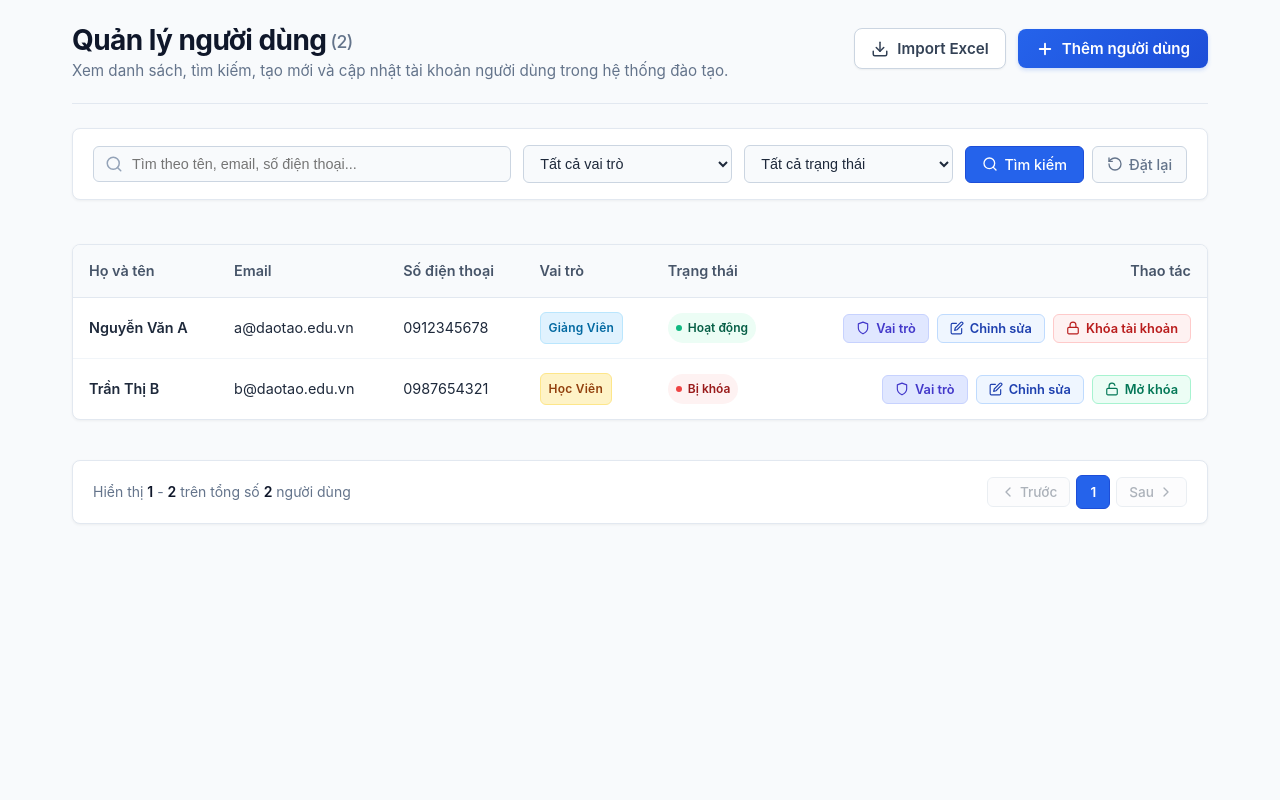
Test: SCRUM-89: User Management Page › 7. bấm nút Vai trò trên dòng người dùng mở modal quản lý vai trò
Step 1. Click the button with test id "btn-manage-role-u-1" → [886, 328], box 843,314 -> 929,343
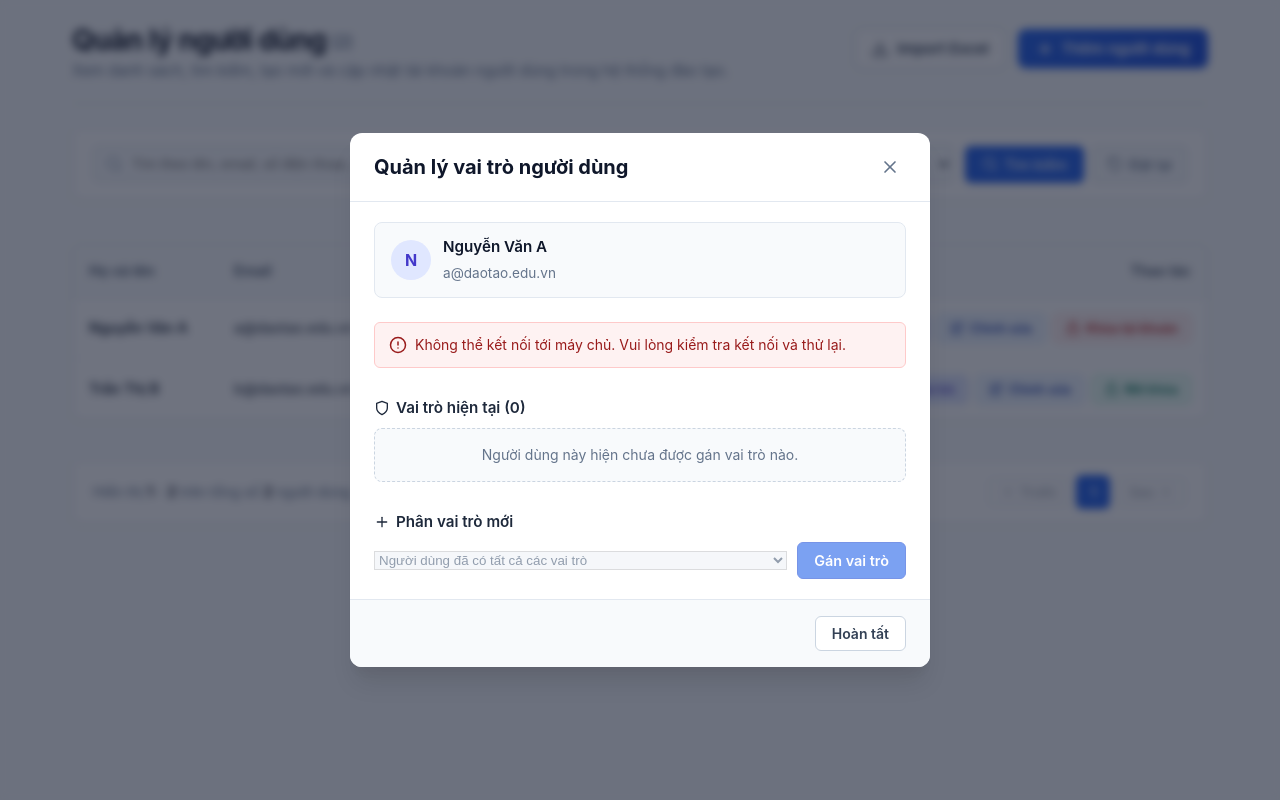
Expected: the dialog with test id "user-role-modal" is shown, 350,133 -> 930,667
Expected: the heading "Quản lý vai trò người dùng" is shown, 374,155 -> 628,179
